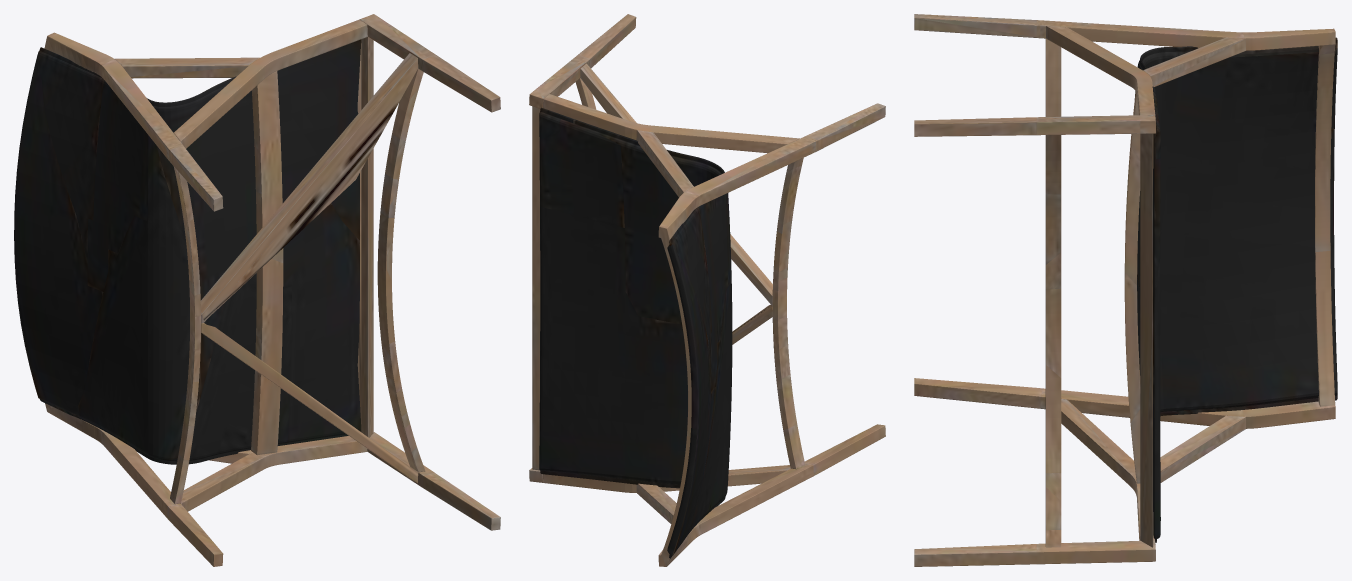
The model's file is chair_2.glb.
3 renders of one model, left to right at view 1: azimuth 30°, elevation 25°; view 2: azimuth 150°, elevation 25°; view 3: azimuth 270°, elevation 25°, orthographic. The views are drawn at different scales.
Parts seen in each view (by area): view 1: chair_2; view 2: chair_2; view 3: chair_2.
Boxes of the visible parts, x1,y1,x2,y2 form: chair_2: [14, 14, 500, 566]; chair_2: [529, 14, 885, 566]; chair_2: [914, 14, 1337, 566].
Size of the model in its own units: 0.6548 by 0.9418 by 0.816.
Materials: 1 (1 with a texture image).
